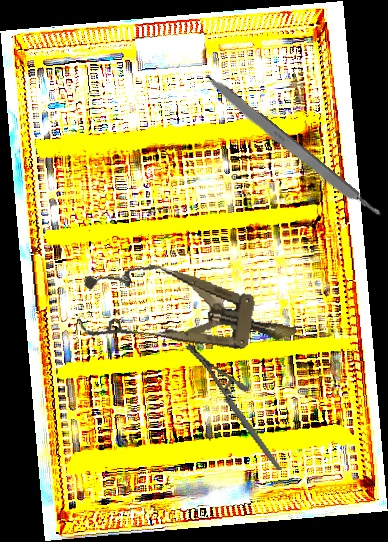Needle Holder: (183, 327, 283, 487)
Scalpel Handle: (201, 71, 383, 224)
Speculum: (74, 253, 303, 374)
